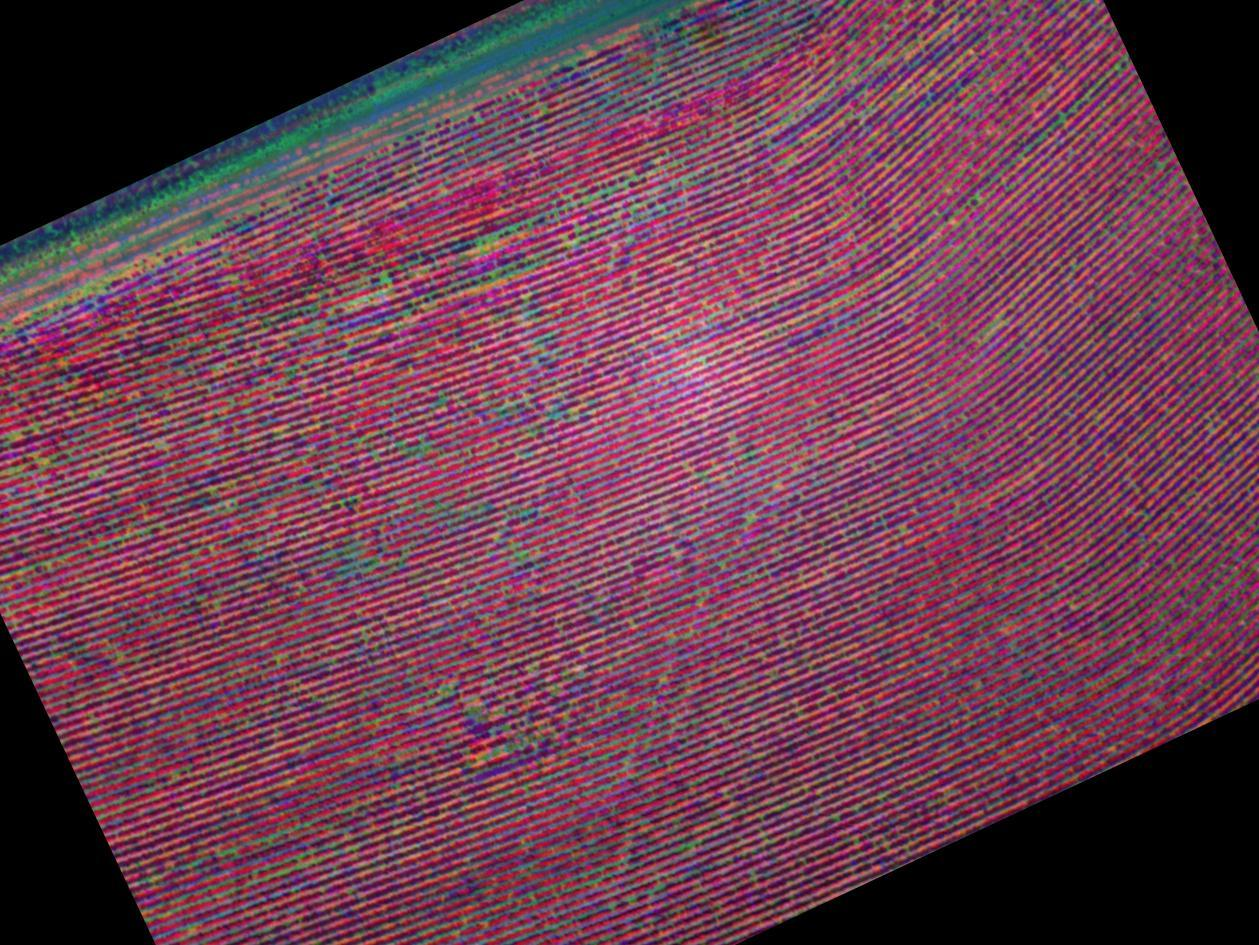dc: (463, 170, 599, 274), (447, 683, 566, 779), (313, 518, 403, 605), (347, 245, 423, 317)
